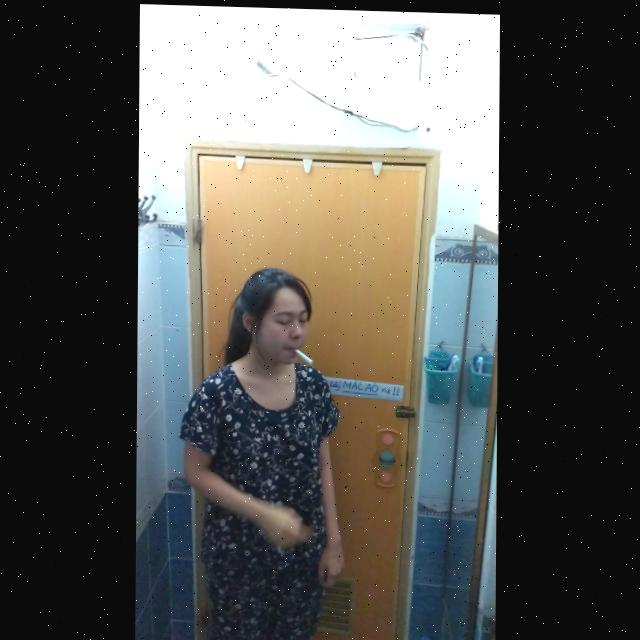cigarette: (294, 346, 314, 362)
